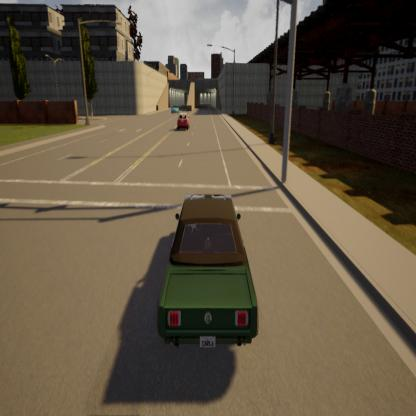Cars: (159, 192, 258, 347), (177, 115, 191, 132), (172, 105, 180, 112)
